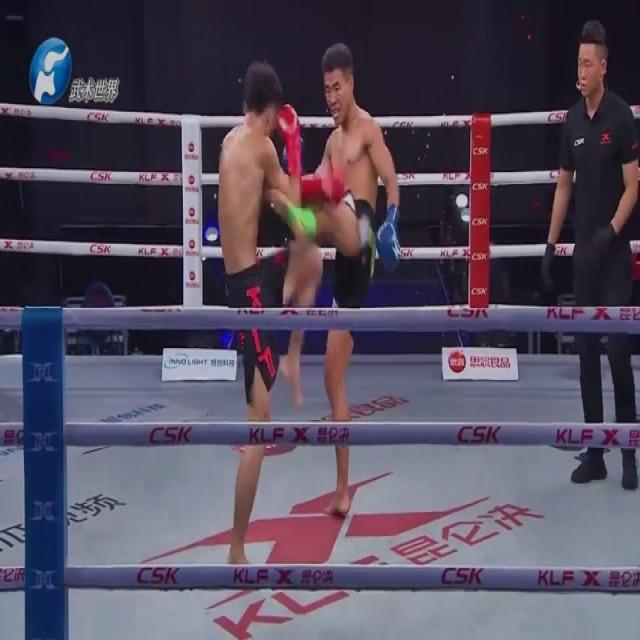fight: (214, 33, 402, 567)
non-fight: (541, 9, 639, 493)
